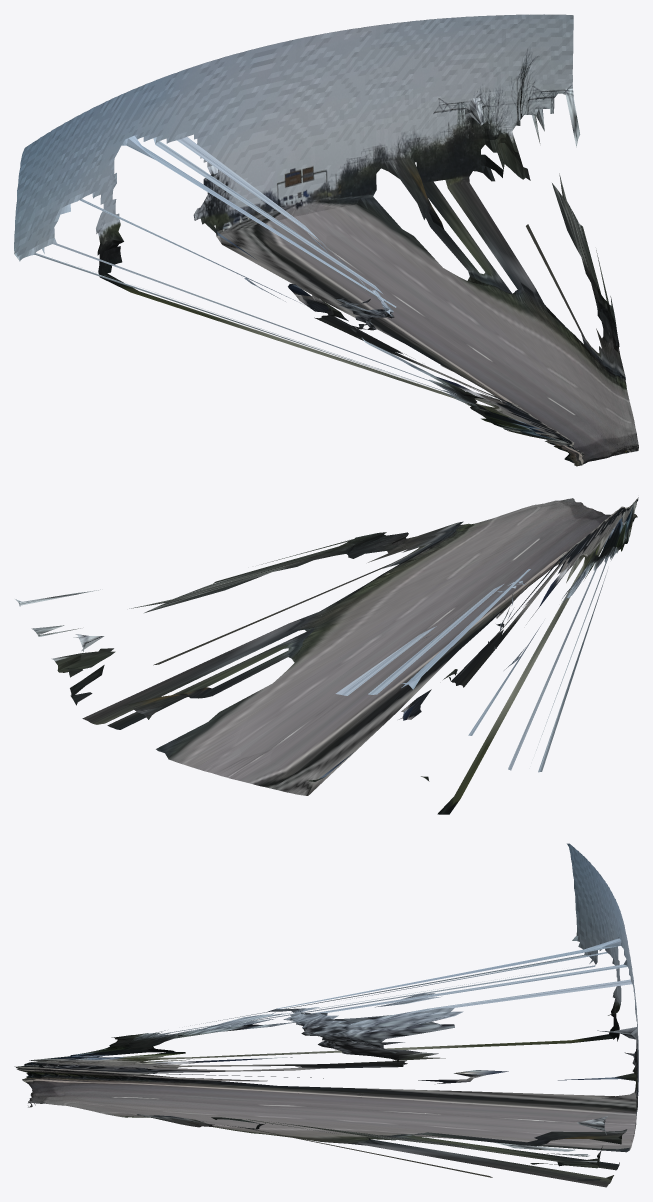
The picture shows the model from 3 angles, top to bottom: view 1: azimuth 30°, elevation 25°; view 2: azimuth 150°, elevation 25°; view 3: azimuth 270°, elevation 25°; orthographic projection. The views are drawn at different scales.
Parts seen in each view (by area): view 1: defaultobject; view 2: defaultobject; view 3: defaultobject.
Boxes of the visible parts, x1,y1,x2,y2 form: defaultobject: [14, 14, 638, 466]; defaultobject: [15, 497, 638, 814]; defaultobject: [14, 843, 638, 1187].
Size of the model in its own units: 41.09 by 13.17 by 45.37.
1 material, 1 textured.
